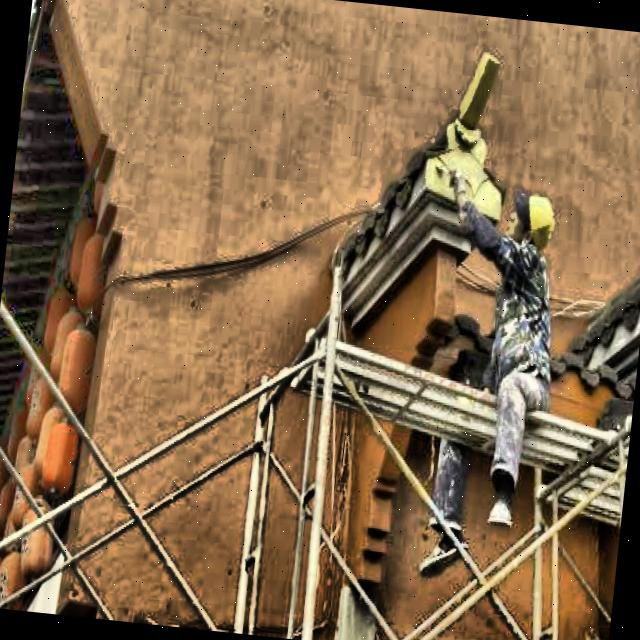helmet: (504, 184, 558, 253)
